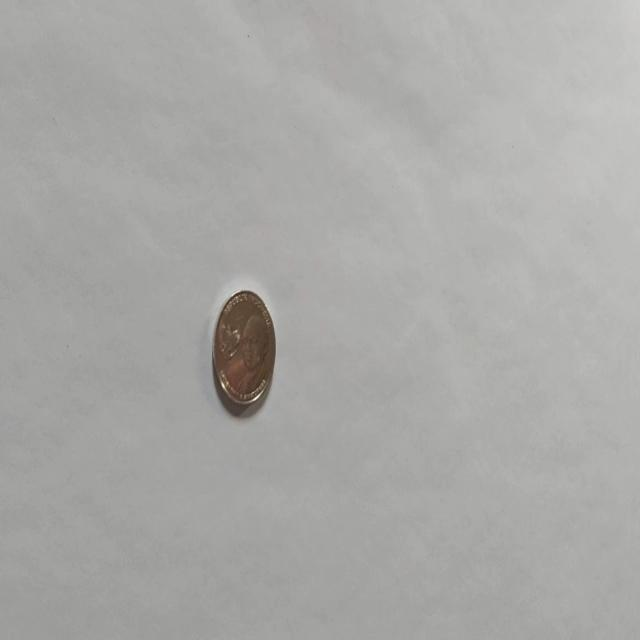lima ratus rupiah: (211, 288, 276, 409)
